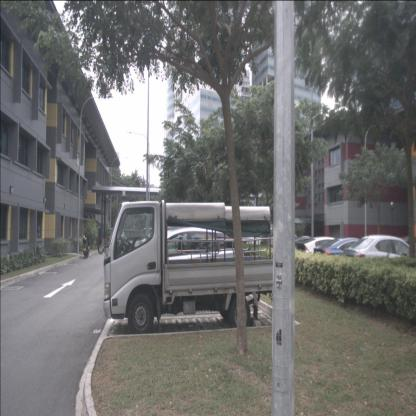vehicle-car: (103, 199, 278, 335), (131, 227, 242, 297), (343, 233, 415, 294), (313, 237, 387, 295), (296, 236, 354, 285)
vehicle-motorcycle: (82, 237, 90, 258)
